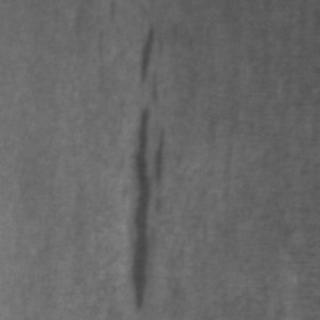inclusion: (122, 100, 168, 310), (130, 19, 162, 97)
